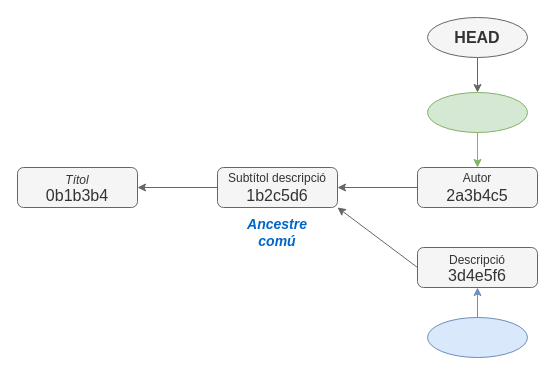
Image size: 555x383. Some labels were removed from this diagram. The box of each missing label's shape, as (x1, y1, x2, y2) in pixels:
desc: (426, 316, 528, 358)
main: (426, 92, 528, 132)
